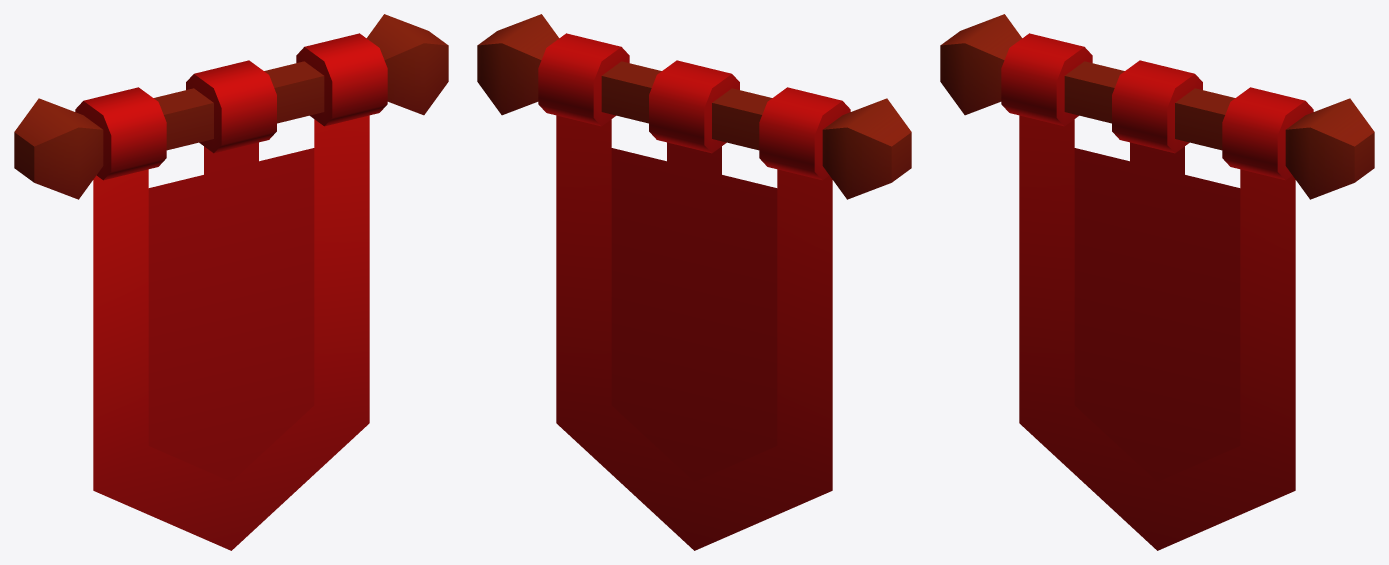
The model's file is banner.fbx.
3 renders of one model, left to right at view 1: azimuth 30°, elevation 25°; view 2: azimuth 150°, elevation 25°; view 3: azimuth 330°, elevation 25°, orthographic.
Parts seen in each view (by area): view 1: banner; view 2: banner; view 3: banner.
Part boxes in pixels (x1=…): banner: x1=14, y1=14, x2=448, y2=550; banner: x1=477, y1=14, x2=911, y2=550; banner: x1=940, y1=14, x2=1374, y2=550.
Size of the model in its own units: 6 by 6.64 by 1.
